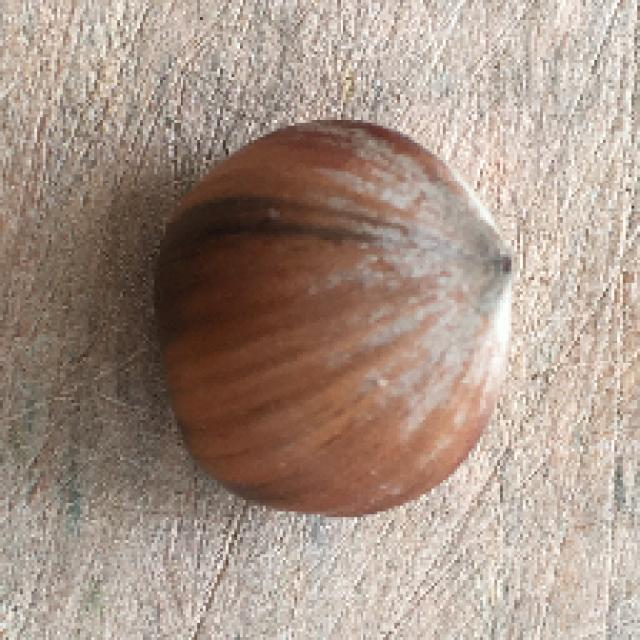DamagedHazelnut: (156, 114, 518, 517)
